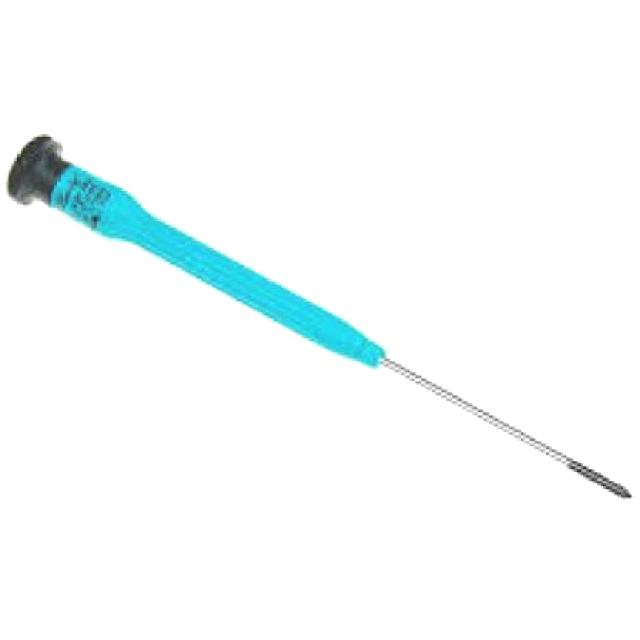screwdriver: (8, 130, 638, 503)
